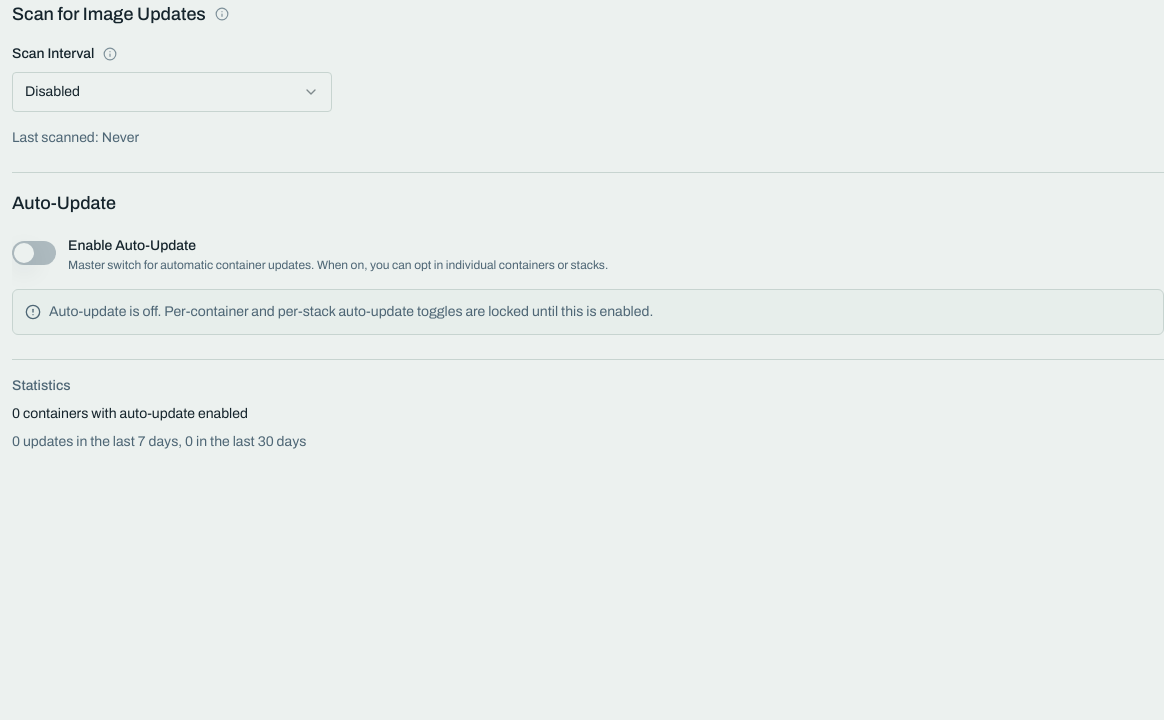
Test case: UpdateScheduleContent — scan interval › does not save when Custom is picked — it waits for a value
Click the dropdown named "Scan Interval" at (52, 92), box top-left (12, 72), bottom-right (332, 112)
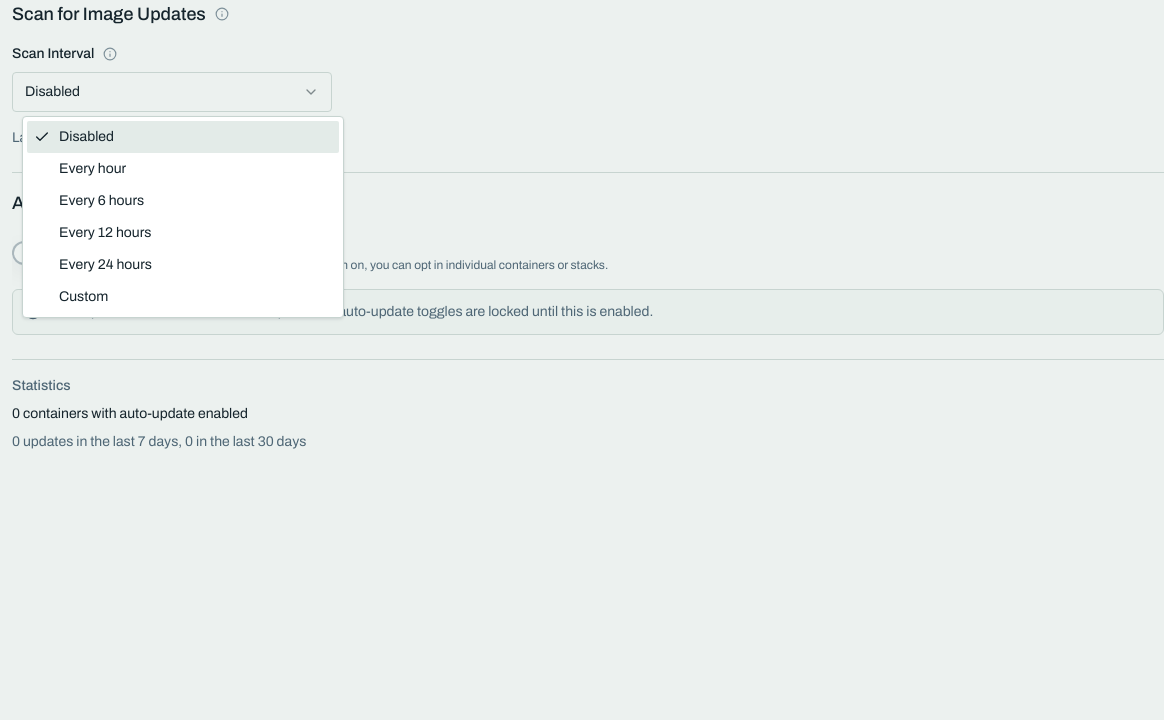
Click the option "Custom" at (84, 296), box top-left (59, 289), bottom-right (108, 304)
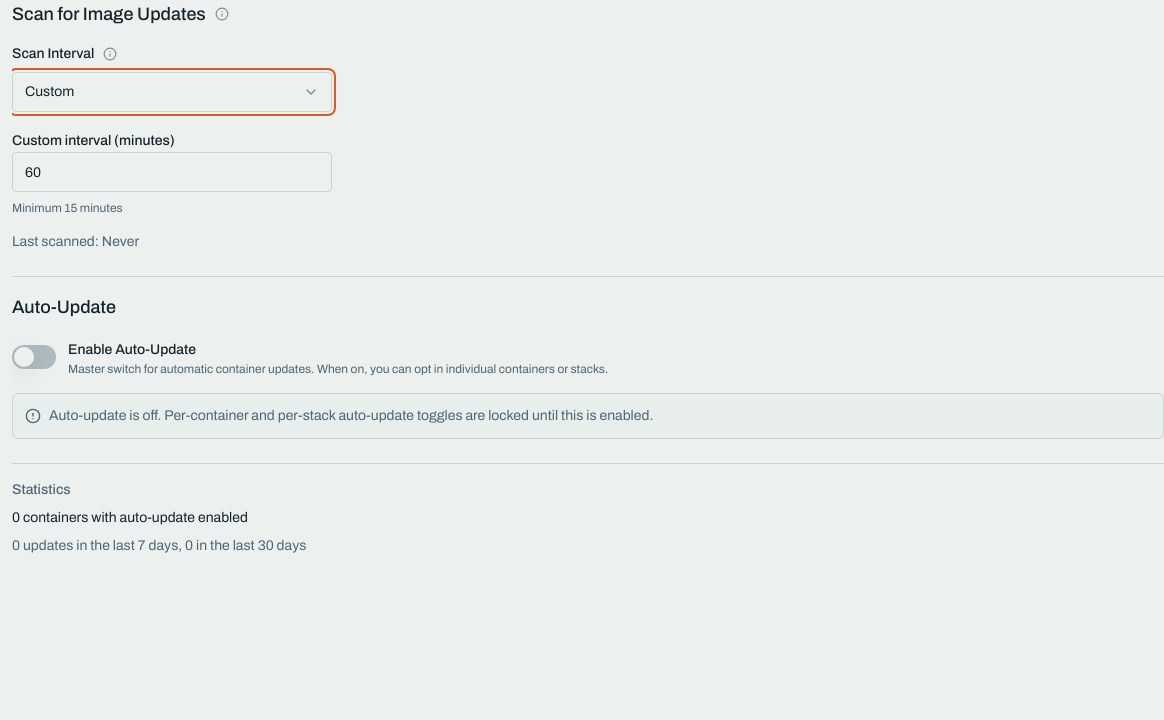
Check: the number field labelled "Custom interval (minutes)" is shown, box top-left (12, 152), bottom-right (332, 192)
